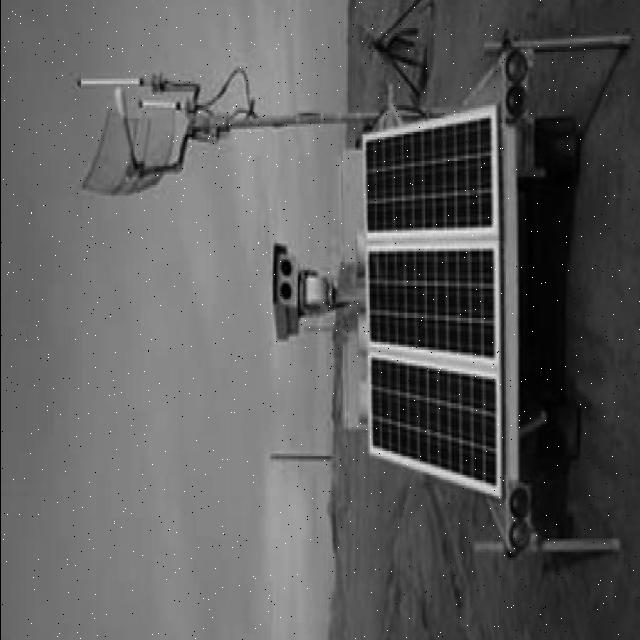Normal Solar Panel: (369, 360, 501, 498), (361, 110, 496, 238), (367, 246, 498, 366)
